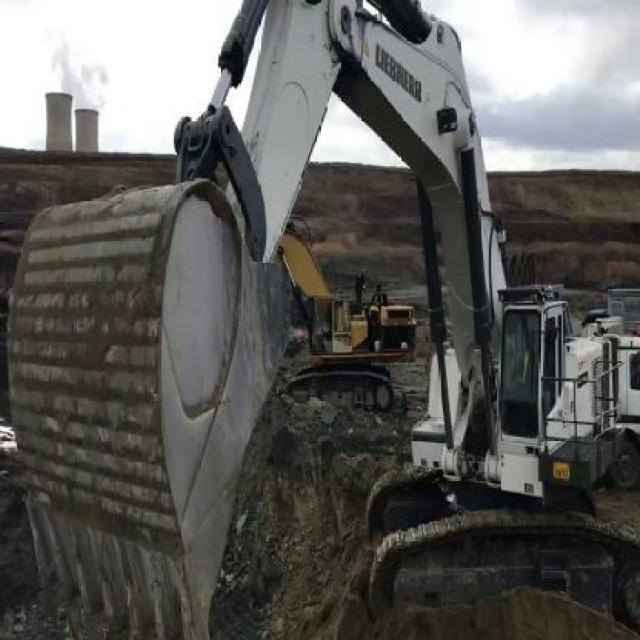Excavator: (3, 0, 638, 638), (278, 215, 416, 411)
